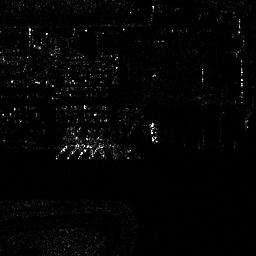ship: (149, 124, 158, 143)
